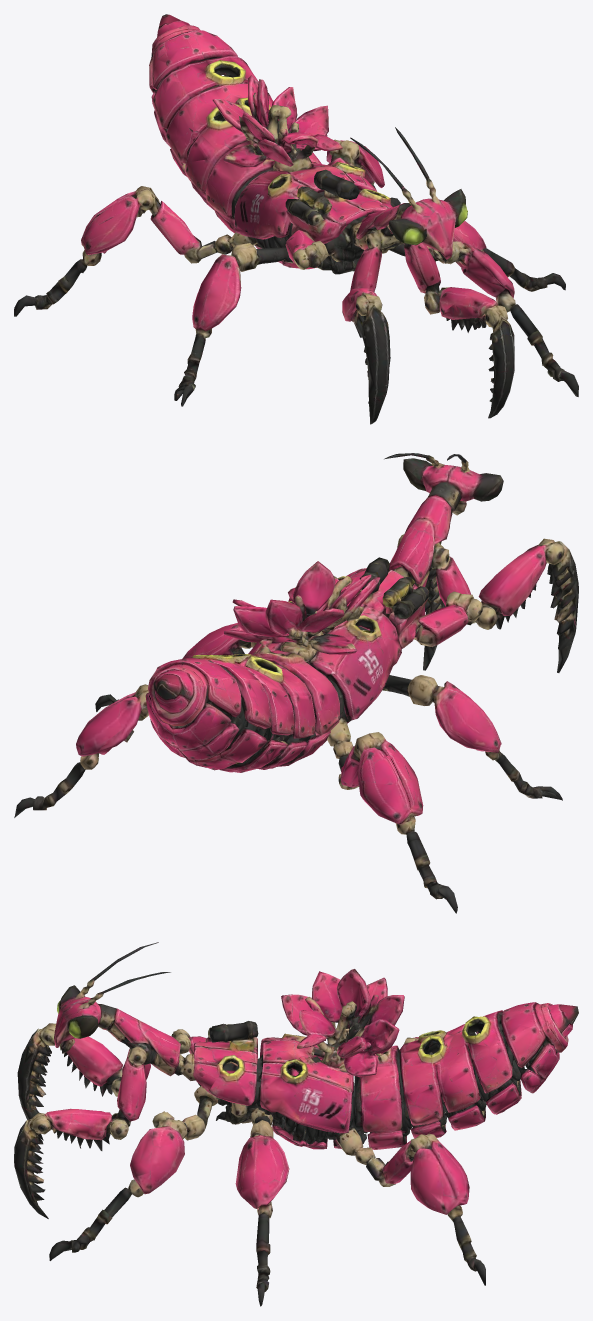
The model's file is orchid-mantis.glb.
3 renders of one model, top to bottom at view 1: azimuth 30°, elevation 25°; view 2: azimuth 150°, elevation 25°; view 3: azimuth 270°, elevation 25°, orthographic. The views are drawn at different scales.
Bounding box in the file's own units: 2.88 × 1.61 × 3.4.
Materials: 1 (1 with a texture image).
